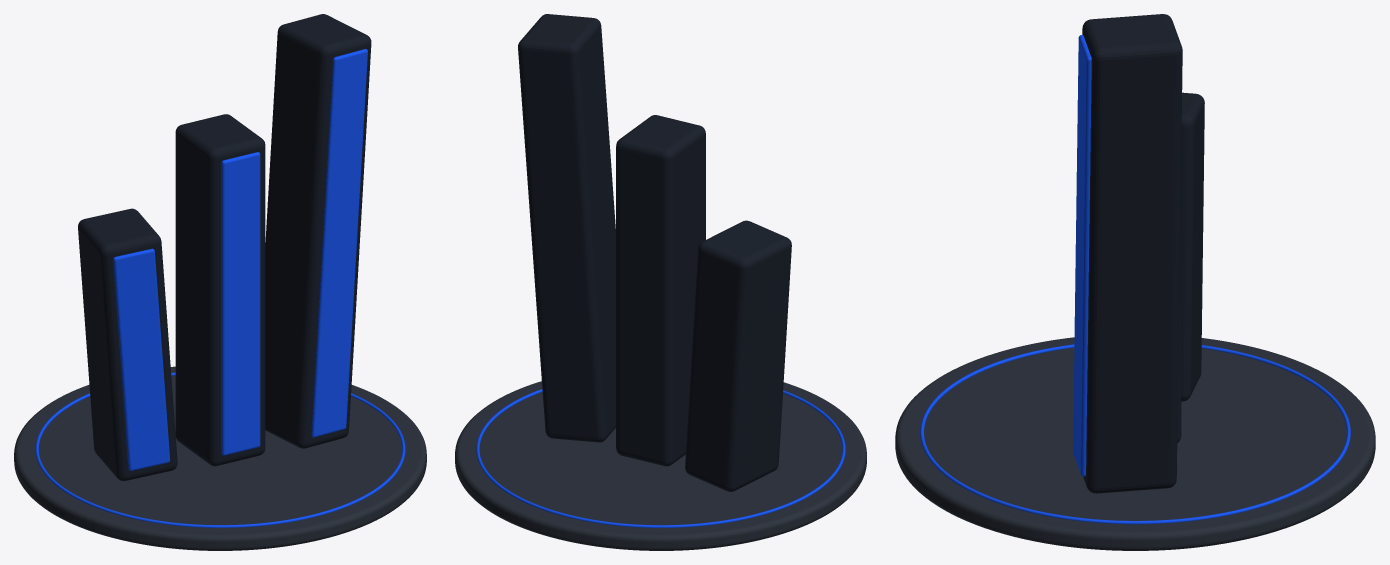
The model's file is sculpture-benex-original.glb.
The picture shows the model from 3 angles, left to right: view 1: azimuth 30°, elevation 25°; view 2: azimuth 150°, elevation 25°; view 3: azimuth 270°, elevation 25°; orthographic projection. The views are drawn at different scales.
Visible parts, largest first — view 1: Socle_graphite, Ailette_3_graphite, Ailette_2_graphite, Ailette_3_cobalt, Ailette_1_graphite, Ailette_2_cobalt, Ailette_1_cobalt, Filet_cobalt; view 2: Socle_graphite, Ailette_3_graphite, Ailette_2_graphite, Ailette_1_graphite, Filet_cobalt; view 3: Socle_graphite, Ailette_3_graphite, Ailette_1_graphite, Ailette_3_cobalt, Filet_cobalt, Ailette_2_graphite.
Part boxes in pixels (box(x1,y1,x2,y2)): Socle_graphite: box(14, 366, 426, 550); Ailette_3_graphite: box(265, 14, 371, 448); Ailette_2_graphite: box(175, 114, 265, 466); Ailette_3_cobalt: box(311, 49, 367, 437); Ailette_1_graphite: box(78, 208, 177, 481); Ailette_2_cobalt: box(221, 152, 260, 455); Ailette_1_cobalt: box(113, 248, 170, 470); Filet_cobalt: box(35, 372, 405, 527); Socle_graphite: box(455, 381, 866, 550); Ailette_3_graphite: box(518, 14, 615, 442); Ailette_2_graphite: box(616, 115, 705, 466); Ailette_1_graphite: box(685, 220, 791, 491); Filet_cobalt: box(476, 389, 845, 527); Socle_graphite: box(895, 337, 1375, 550); Ailette_3_graphite: box(1082, 14, 1182, 493); Ailette_1_graphite: box(1181, 92, 1204, 401); Ailette_3_cobalt: box(1073, 35, 1091, 476); Filet_cobalt: box(920, 344, 1350, 524); Ailette_2_graphite: box(1177, 162, 1181, 442).
Bounding box in the file's own units: 4.3 × 4.75 × 4.3.
